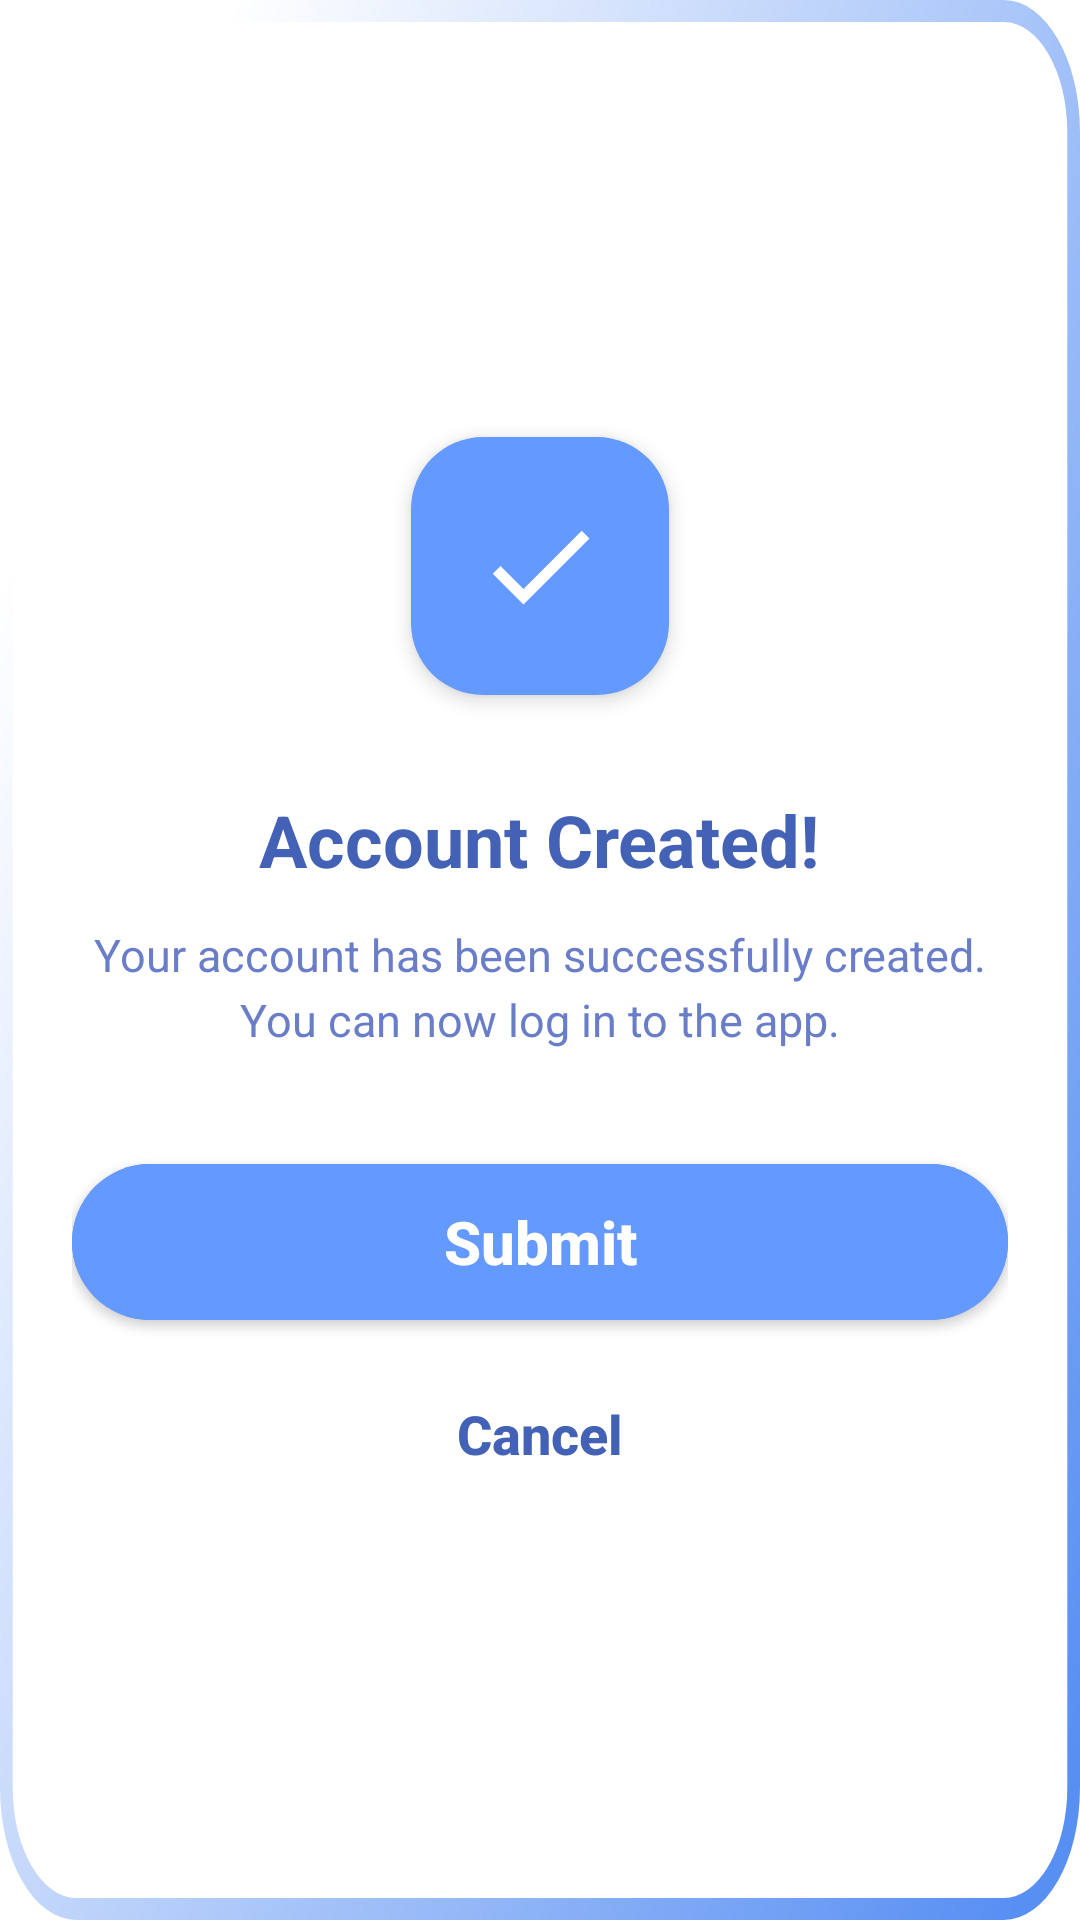

Named icons in this screenshot (1080px x 1920px) and their centers, (x=x, y=y):
check mark: (x=541, y=568)
